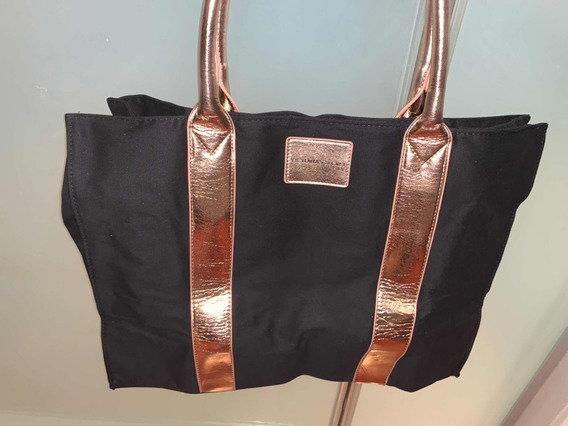cartera: (59, 1, 550, 396)
